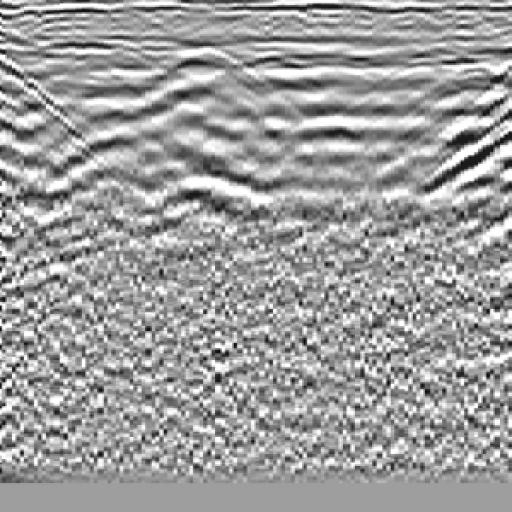metalic: (122, 32, 310, 250)
nonmetalic: (410, 47, 512, 263)
